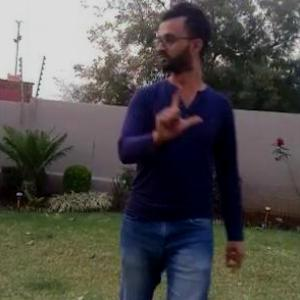land_hand: (152, 84, 205, 147)
